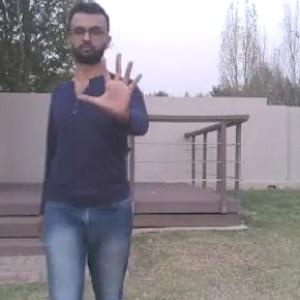follow_hand: (75, 45, 149, 119)
